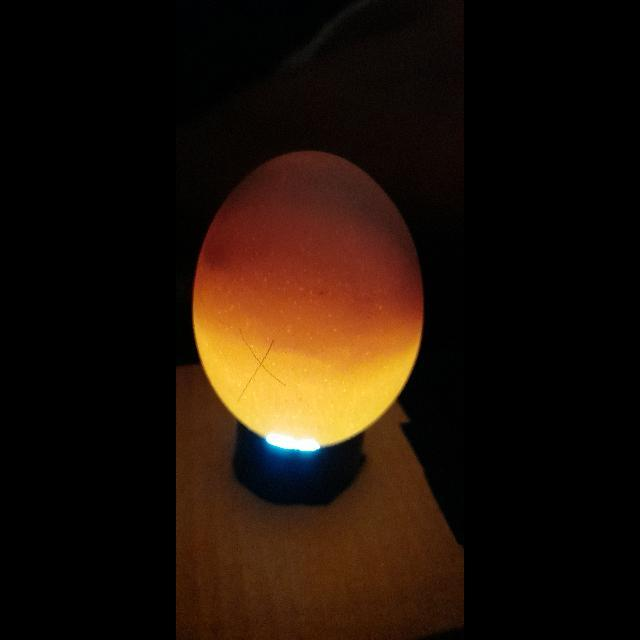Infertile: (192, 146, 426, 448)
